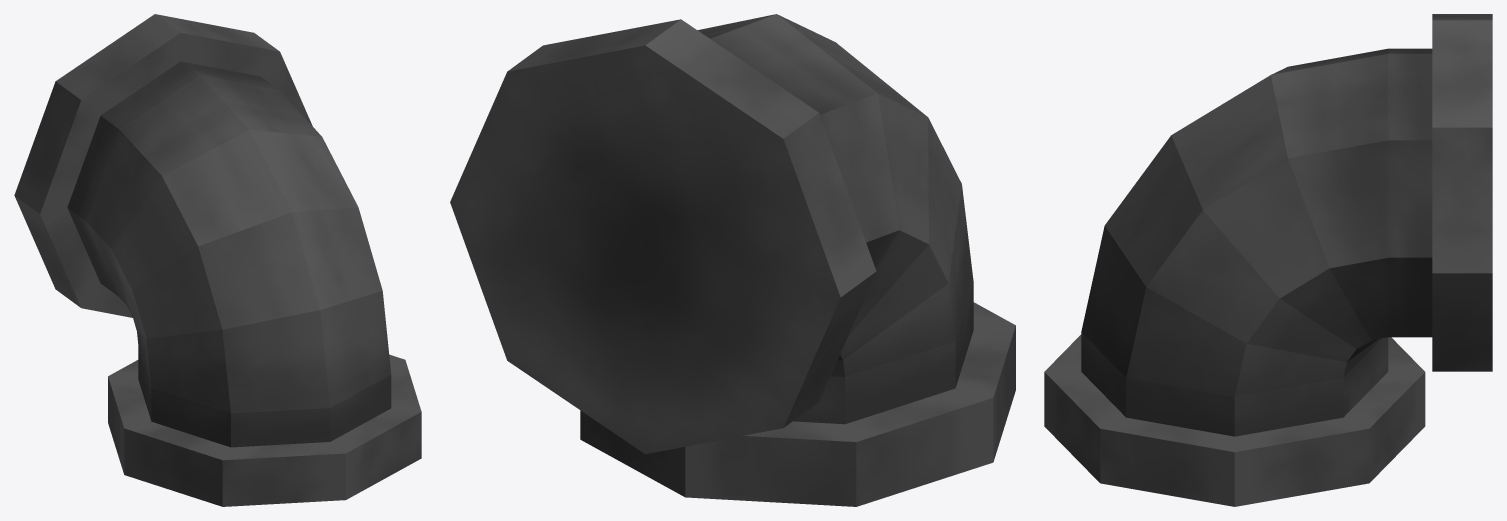
Rendered from pipe_corner.fbx.
3 views of the same model, side by side, from view 1: azimuth 30°, elevation 25°; view 2: azimuth 150°, elevation 25°; view 3: azimuth 270°, elevation 25° (orthographic). The views are drawn at different scales.
Visible parts, largest first — view 1: pipe_corner; view 2: pipe_corner; view 3: pipe_corner.
Boxes of the visible parts, x1,y1,x2,y2 form: pipe_corner: (14, 14, 421, 506); pipe_corner: (450, 14, 1015, 506); pipe_corner: (1044, 14, 1492, 506).
Size of the model in its own units: 0.124 by 0.146 by 0.146.
Materials: 1 (1 with a texture image).
